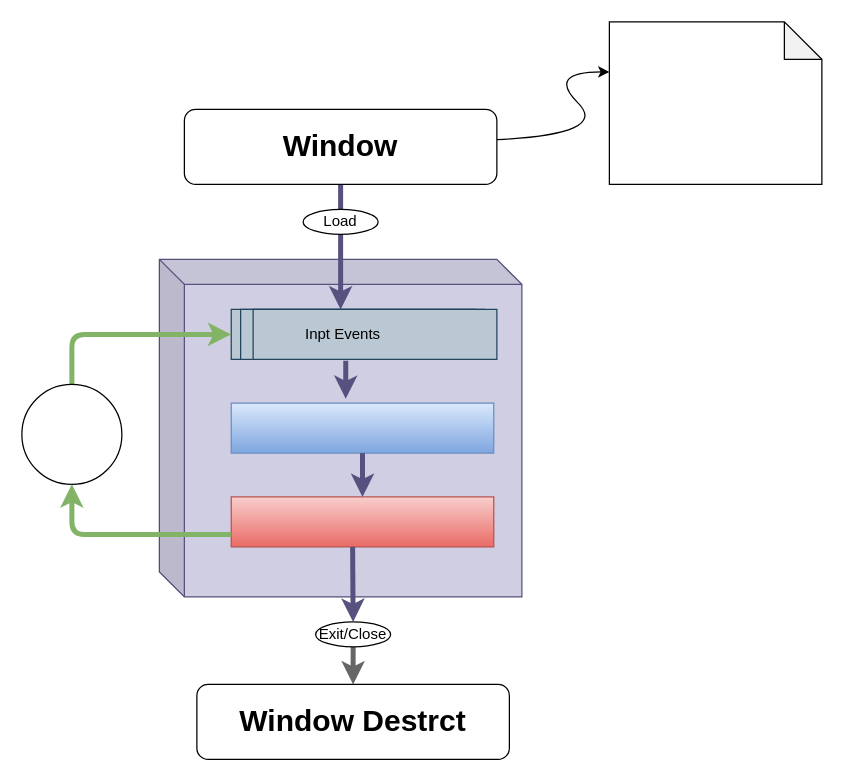
Some shapes in this 844 by 781 pixel diagram are drawn without their labels. Here are the shapes that lost their labels. From the top down, the centre of each, then its label:
At pixel 715 102: "Loading game, assets...".
At pixel 362 427: "Update".
At pixel 362 521: "Draw".
